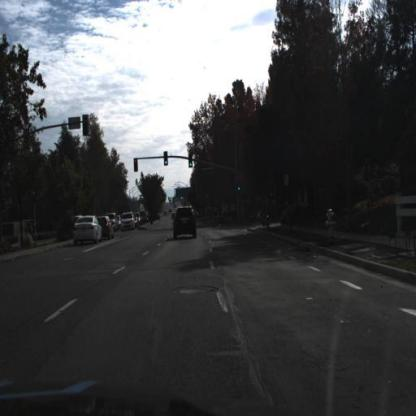car: (170, 202, 199, 243), (72, 212, 103, 246), (97, 211, 115, 245), (120, 210, 134, 231)
trafficLight-Green: (186, 150, 196, 170), (161, 149, 170, 169), (235, 177, 243, 197)
trafficLight-RedLeft: (28, 184, 40, 209), (132, 154, 139, 173)
